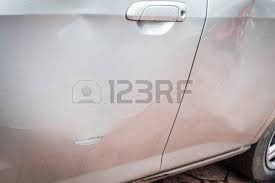Dent: (1, 11, 147, 132), (207, 1, 271, 137)
Scratch: (68, 130, 111, 148)
